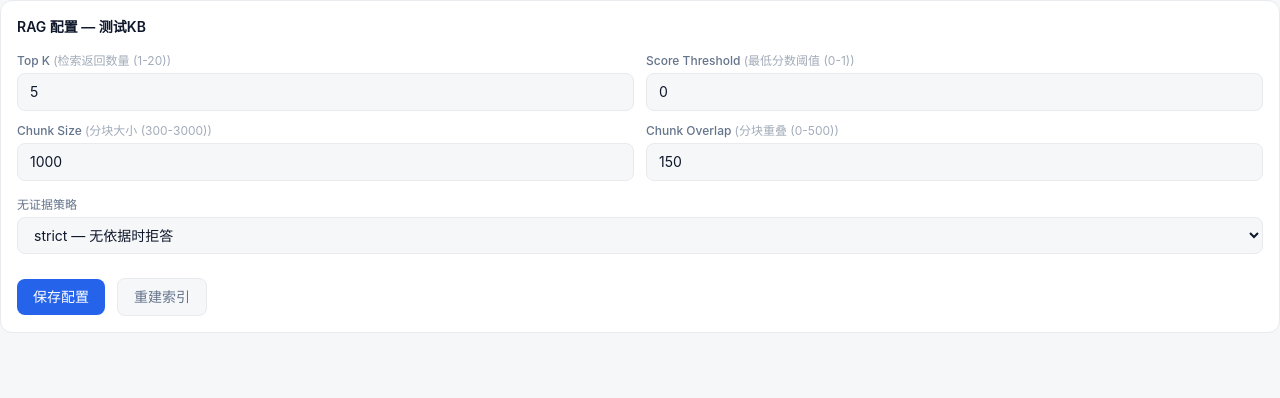
Scenario: RAGConfigPanel › 保存失败显示错误
The width and height of the screenshot is (1280, 398).
Expected: the number field showing "5" below "Top K" is shown, [17,73,634,111]
Step 1. Click the button "保存配置" → {"x": 61, "y": 297}, box [17,279,105,315]
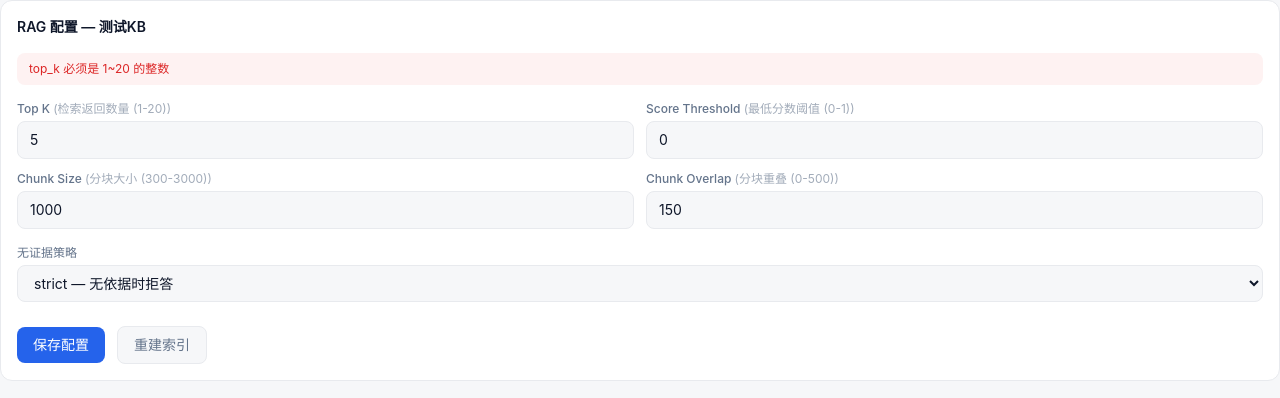
Expected: the text "top_k 必须是 1~20 的整数" is shown, [17,53,1263,85]
